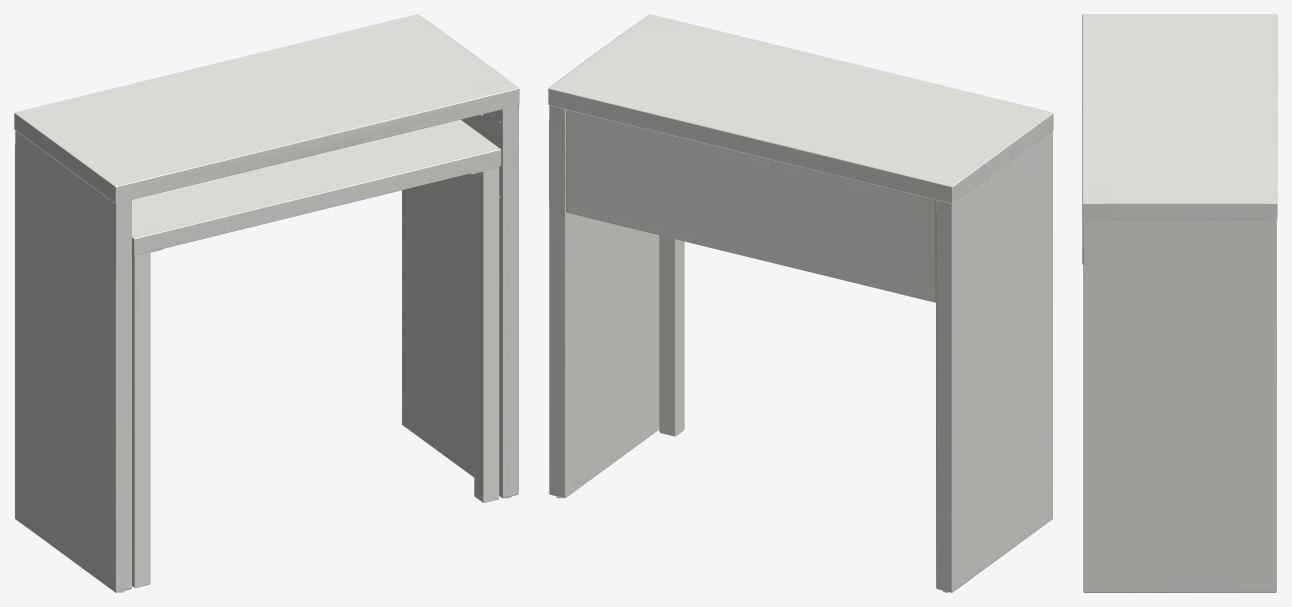
3 views of the same model, side by side, from view 1: azimuth 30°, elevation 25°; view 2: azimuth 150°, elevation 25°; view 3: azimuth 270°, elevation 25° (orthographic). The views are drawn at different scales.
Visible parts, largest first — view 1: ASY_ART_30587080_S01_NV01; view 2: ASY_ART_30587080_S01_NV01; view 3: ASY_ART_30587080_S01_NV01.
Boxes of the visible parts, box(x1,y1,x2,y2) form: ASY_ART_30587080_S01_NV01: box(14, 14, 519, 592); ASY_ART_30587080_S01_NV01: box(548, 14, 1053, 592); ASY_ART_30587080_S01_NV01: box(1082, 14, 1277, 592).
Bounding box in the file's own units: 0.9001 × 0.8702 × 0.3922.
1 material, 1 textured.
